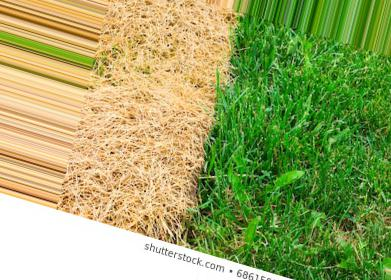patch: (110, 4, 178, 220), (75, 133, 106, 208), (181, 23, 211, 89)
